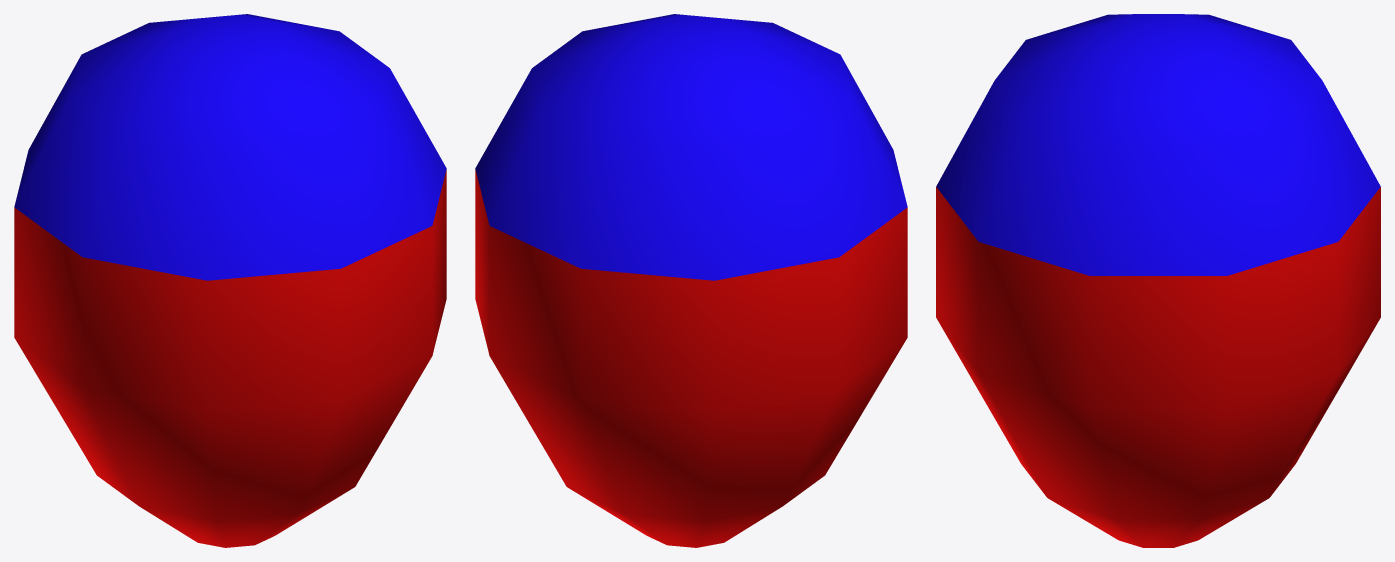
File: bob.FBX
3 views of the same model, side by side, from view 1: azimuth 30°, elevation 25°; view 2: azimuth 150°, elevation 25°; view 3: azimuth 270°, elevation 25° (orthographic).
Parts seen in each view (by area): view 1: Sphere001; view 2: Sphere001; view 3: Sphere001.
Boxes of the visible parts, x1=… form: Sphere001: x1=14, y1=14, x2=446, y2=547; Sphere001: x1=475, y1=14, x2=907, y2=547; Sphere001: x1=936, y1=14, x2=1380, y2=547.
Size of the model in its own units: 0.5513 by 0.7258 by 0.5797.
